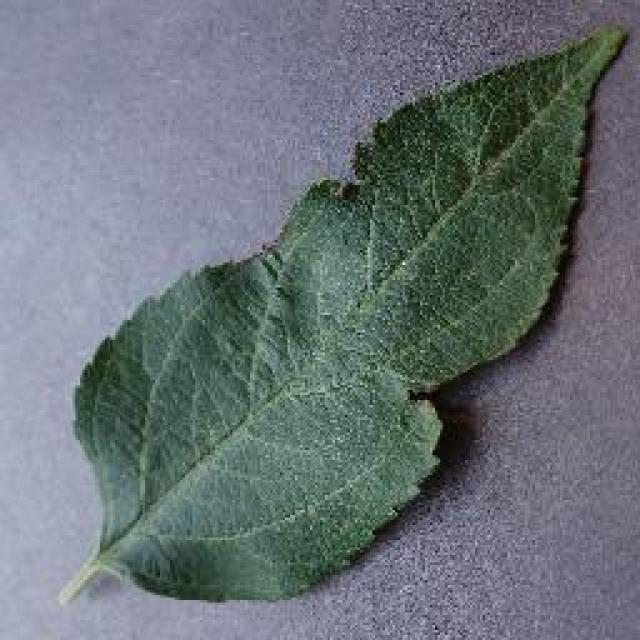apple healthy: (55, 17, 630, 605)
